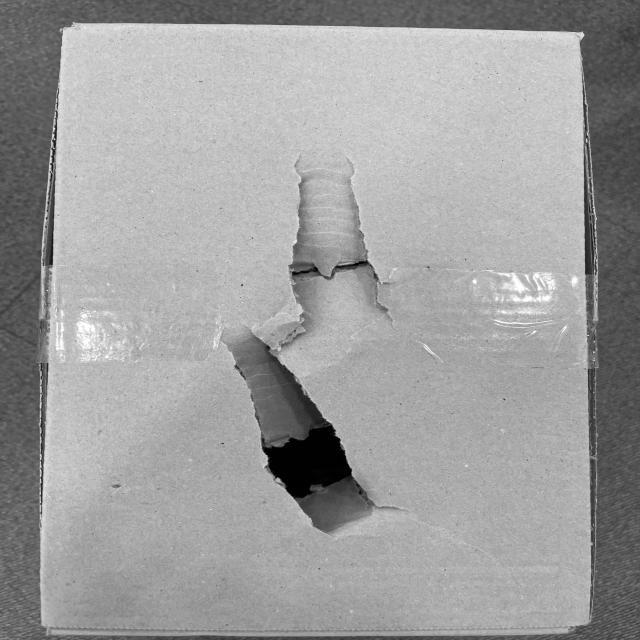hole: (216, 323, 390, 539), (282, 158, 390, 304)
